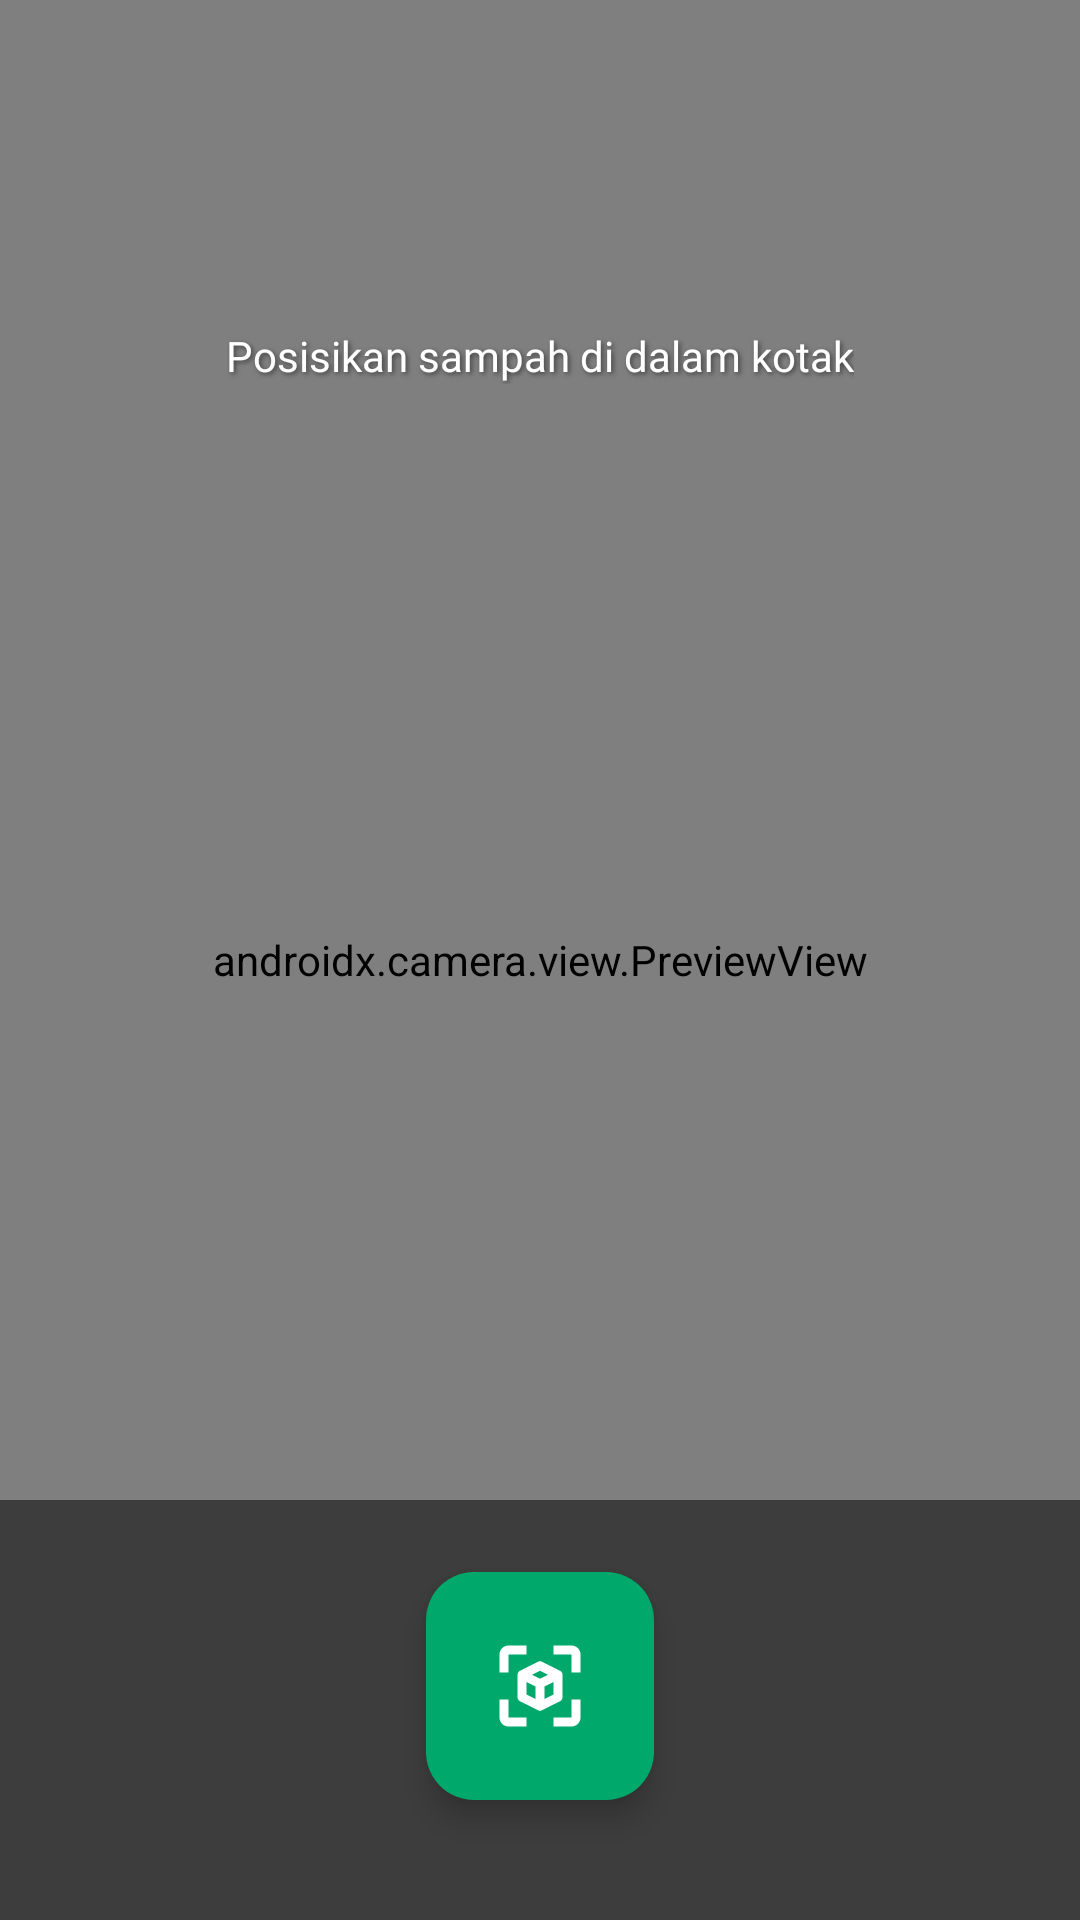

Icons on this 1080 x 1920 Android screen, each with the point to tap as (x=x, y=y):
Tombol ambil foto sampah: (x=540, y=1686)
